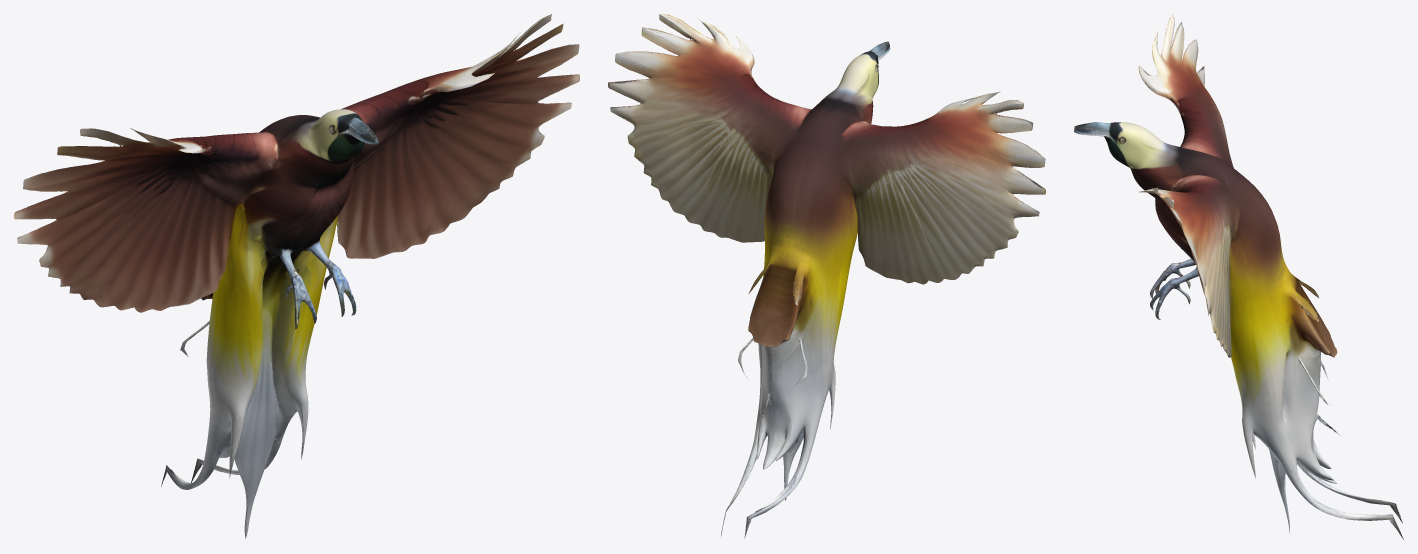
Rendered from cendrawasih.fbx.
3 renders of one model, left to right at view 1: azimuth 30°, elevation 25°; view 2: azimuth 150°, elevation 25°; view 3: azimuth 270°, elevation 25°, orthographic. The views are drawn at different scales.
Visible parts, largest first — view 1: model; view 2: model; view 3: model.
Part boxes in pixels (left/top/right/bottom): model: left=14, top=14, right=579, bottom=539; model: left=608, top=14, right=1045, bottom=538; model: left=1074, top=14, right=1403, bottom=539.
Bounding box in the file's own units: 190 × 167 × 117.
